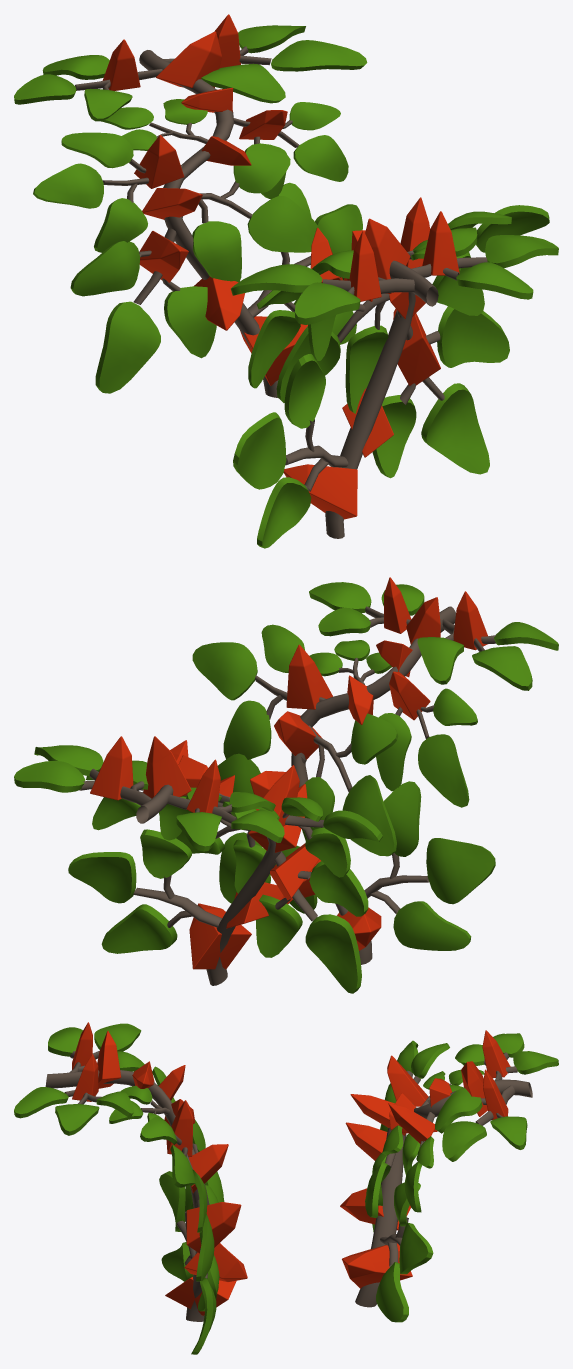
Rendered from Tile_Trap_Poison_Ivy.fbx.
3 views of the same model, one above another, from view 1: azimuth 30°, elevation 25°; view 2: azimuth 150°, elevation 25°; view 3: azimuth 270°, elevation 25° (orthographic). The views are drawn at different scales.
Visible parts, largest first — view 1: BézierCurve.011; view 2: BézierCurve.011; view 3: BézierCurve.011.
Boxes of the visible parts, <box> form: BézierCurve.011: <box>14,14,558,548</box>; BézierCurve.011: <box>14,577,558,993</box>; BézierCurve.011: <box>14,1022,558,1354</box>.
Bounding box in the file's own units: 127 × 122 × 214.
1 material, 1 textured.
